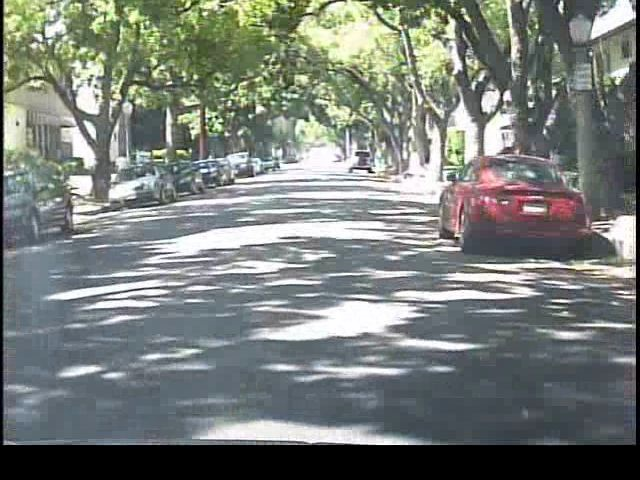person: (114, 147, 136, 196)
